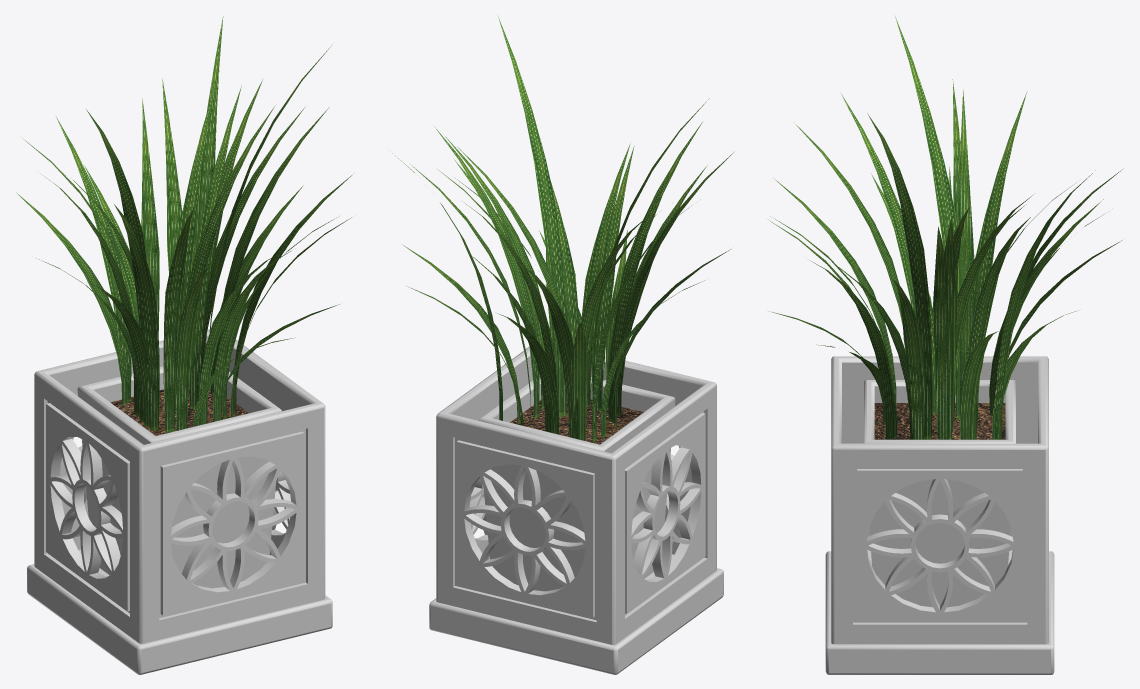
The model's file is Plant.obj.
3 renders of one model, left to right at view 1: azimuth 30°, elevation 25°; view 2: azimuth 150°, elevation 25°; view 3: azimuth 270°, elevation 25°, orthographic. The views are drawn at different scales.
Visible parts, largest first — view 1: Mesh3 Kvetinac__kostra1 Model, Mesh1 Kvetinac__mozaika1 Model, Mesh6 Kvetinac__mozaika4 Model, Mesh2 Kvetinac__vnitrni1 Model, Mesh9 Trava_Steblo3 Trava1 Model, Mesh24 Trava_Steblo18 Trava1 Model, Mesh25 Trava_Steblo19 Trava1 Model, Mesh36 Trava_Steblo30 Trava1 Model, Mesh30 Trava_Steblo24 Trava1 Model, Mesh14 Trava_Steblo8 Trava1 Model, Mesh29 Trava_Steblo23 Trava1 Model, Mesh18 Trava_Steblo12 Trava1 Model (+20 smaller); view 2: Mesh3 Kvetinac__kostra1 Model, Mesh4 Kvetinac__mozaika2 Model, Mesh2 Kvetinac__vnitrni1 Model, Mesh6 Kvetinac__mozaika4 Model, Mesh34 Trava_Steblo28 Trava1 Model, Mesh9 Trava_Steblo3 Trava1 Model, Mesh20 Trava_Steblo14 Trava1 Model, Mesh26 Trava_Steblo20 Trava1 Model, Mesh14 Trava_Steblo8 Trava1 Model, Mesh28 Trava_Steblo22 Trava1 Model, Mesh7 Trava_Steblo1 Trava1 Model, Mesh23 Trava_Steblo17 Trava1 Model (+18 smaller); view 3: Mesh3 Kvetinac__kostra1 Model, Mesh5 Kvetinac__mozaika3 Model, Mesh2 Kvetinac__vnitrni1 Model, Mesh34 Trava_Steblo28 Trava1 Model, Mesh26 Trava_Steblo20 Trava1 Model, Mesh27 Trava_Steblo21 Trava1 Model, Mesh12 Trava_Steblo6 Trava1 Model, Mesh8 Trava_Steblo2 Trava1 Model, Mesh29 Trava_Steblo23 Trava1 Model, Mesh35 Trava_Steblo29 Trava1 Model, Mesh11 Trava_Steblo5 Trava1 Model, Mesh24 Trava_Steblo18 Trava1 Model (+13 smaller).
Part boxes in pixels (left/top/right/bottom): Mesh3 Kvetinac__kostra1 Model: left=27, top=329, right=332, bottom=674; Mesh1 Kvetinac__mozaika1 Model: left=159, top=429, right=305, bottom=618; Mesh6 Kvetinac__mozaika4 Model: left=46, top=401, right=129, bottom=613; Mesh2 Kvetinac__vnitrni1 Model: left=77, top=366, right=281, bottom=588; Mesh9 Trava_Steblo3 Trava1 Model: left=163, top=207, right=194, bottom=432; Mesh24 Trava_Steblo18 Trava1 Model: left=114, top=204, right=159, bottom=430; Mesh25 Trava_Steblo19 Trava1 Model: left=189, top=85, right=241, bottom=409; Mesh36 Trava_Steblo30 Trava1 Model: left=175, top=267, right=208, bottom=430; Mesh30 Trava_Steblo24 Trava1 Model: left=141, top=98, right=159, bottom=331; Mesh14 Trava_Steblo8 Trava1 Model: left=56, top=116, right=131, bottom=402; Mesh29 Trava_Steblo23 Trava1 Model: left=194, top=16, right=223, bottom=350; Mesh18 Trava_Steblo12 Trava1 Model: left=200, top=107, right=304, bottom=381; Mesh3 Kvetinac__kostra1 Model: left=429, top=347, right=723, bottom=674; Mesh4 Kvetinac__mozaika2 Model: left=455, top=437, right=596, bottom=620; Mesh2 Kvetinac__vnitrni1 Model: left=478, top=375, right=675, bottom=591; Mesh6 Kvetinac__mozaika4 Model: left=625, top=411, right=705, bottom=615; Mesh34 Trava_Steblo28 Trava1 Model: left=497, top=15, right=566, bottom=417; Mesh9 Trava_Steblo3 Trava1 Model: left=608, top=122, right=702, bottom=423; Mesh20 Trava_Steblo14 Trava1 Model: left=592, top=146, right=634, bottom=410; Mesh26 Trava_Steblo20 Trava1 Model: left=433, top=125, right=539, bottom=419; Mesh14 Trava_Steblo8 Trava1 Model: left=522, top=265, right=579, bottom=439; Mesh28 Trava_Steblo22 Trava1 Model: left=581, top=143, right=630, bottom=406; Mesh7 Trava_Steblo1 Trava1 Model: left=571, top=323, right=589, bottom=440; Mesh23 Trava_Steblo17 Trava1 Model: left=550, top=181, right=578, bottom=338; Mesh3 Kvetinac__kostra1 Model: left=825, top=356, right=1054, bottom=674; Mesh5 Kvetinac__mozaika3 Model: left=853, top=466, right=1027, bottom=622; Mesh2 Kvetinac__vnitrni1 Model: left=864, top=380, right=1015, bottom=607; Mesh34 Trava_Steblo28 Trava1 Model: left=867, top=113, right=932, bottom=439; Mesh26 Trava_Steblo20 Trava1 Model: left=932, top=226, right=951, bottom=439; Mesh27 Trava_Steblo21 Trava1 Model: left=957, top=89, right=974, bottom=406; Mesh12 Trava_Steblo6 Trava1 Model: left=895, top=16, right=959, bottom=420; Mesh8 Trava_Steblo2 Trava1 Model: left=893, top=279, right=924, bottom=439; Mesh29 Trava_Steblo23 Trava1 Model: left=994, top=170, right=1095, bottom=439; Mesh35 Trava_Steblo29 Trava1 Model: left=973, top=91, right=1027, bottom=422; Mesh11 Trava_Steblo5 Trava1 Model: left=969, top=217, right=1030, bottom=439; Mesh24 Trava_Steblo18 Trava1 Model: left=841, top=93, right=916, bottom=317.
Size of the model in its own units: 6.29 by 11.46 by 6.53.
